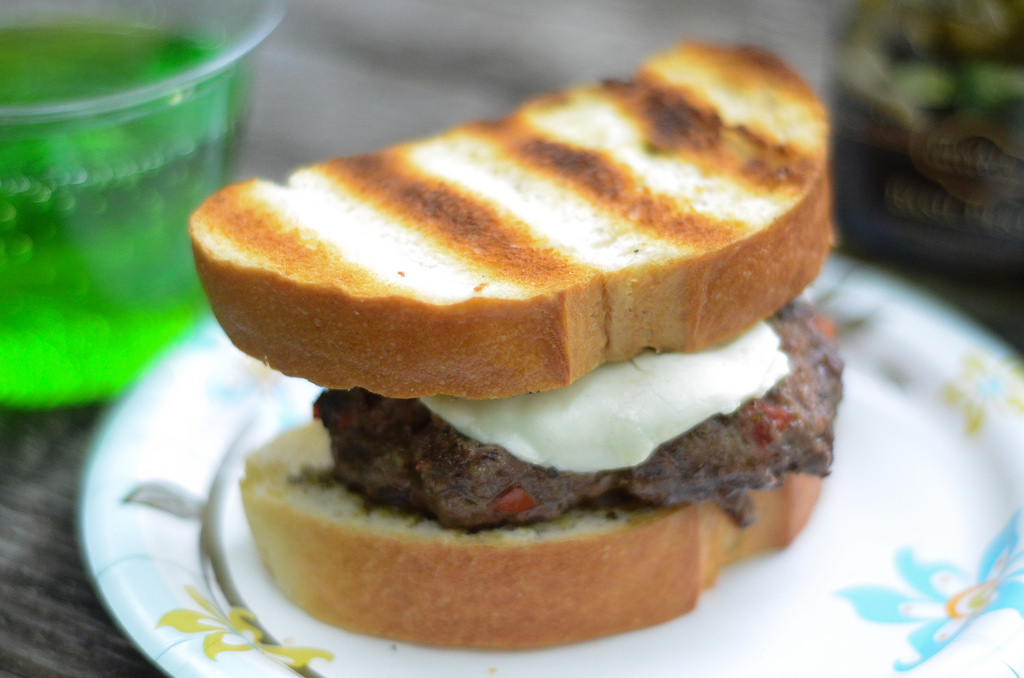slice of bread: (176, 63, 848, 394), (231, 443, 849, 652)
